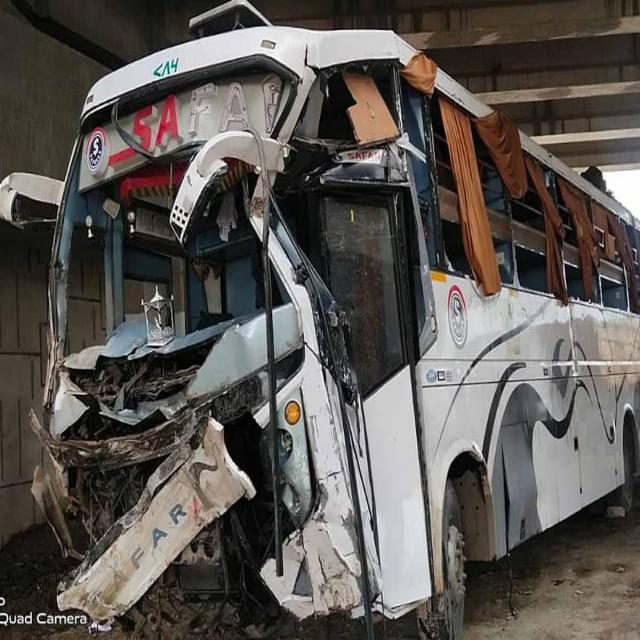accident: (0, 0, 640, 636)
